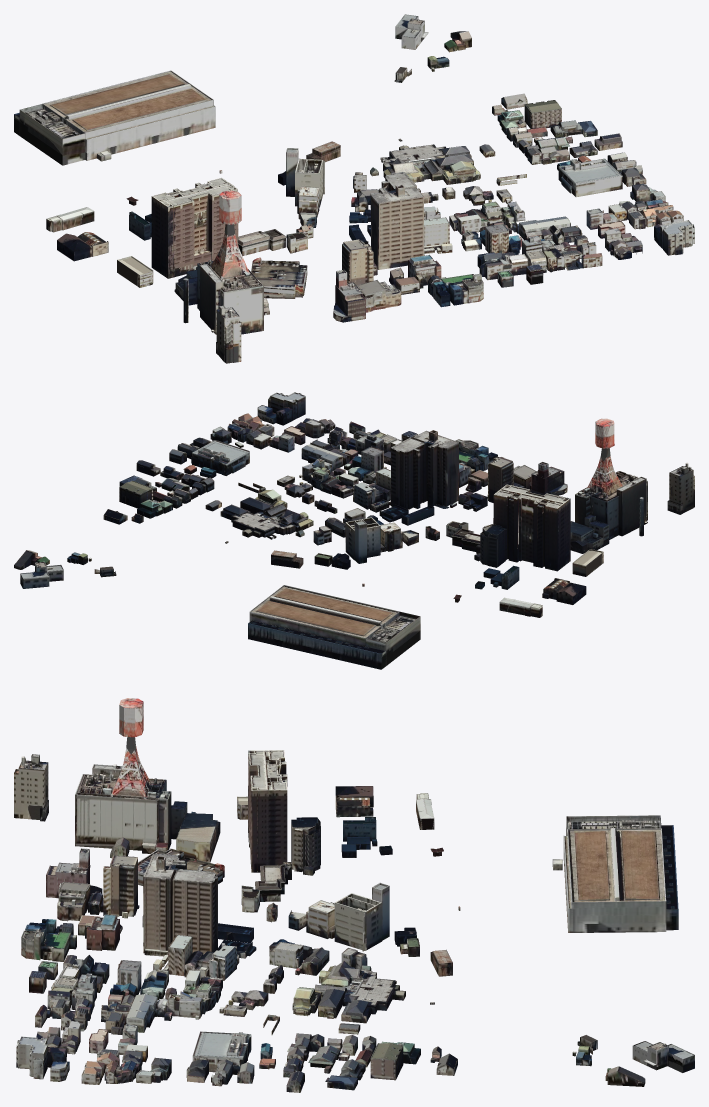
File: station-7-2-packed.glb
3 views of the same model, one above another, from view 1: azimuth 30°, elevation 25°; view 2: azimuth 150°, elevation 25°; view 3: azimuth 270°, elevation 25° (orthographic). The views are drawn at different scales.
Bounding box in the file's own units: 374 × 81.6 × 362.
16 materials, 15 textured.
